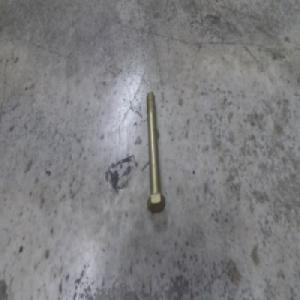Bolt: (144, 90, 165, 212)
